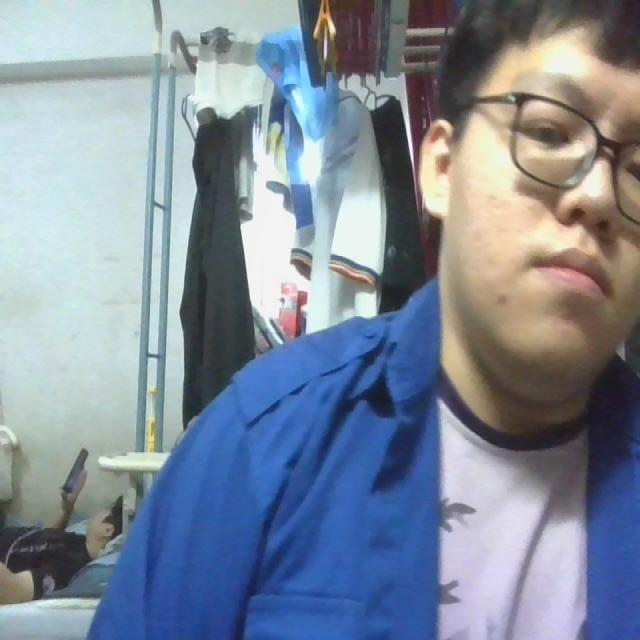person_with_labcoat: (90, 0, 639, 639), (90, 284, 440, 639)
